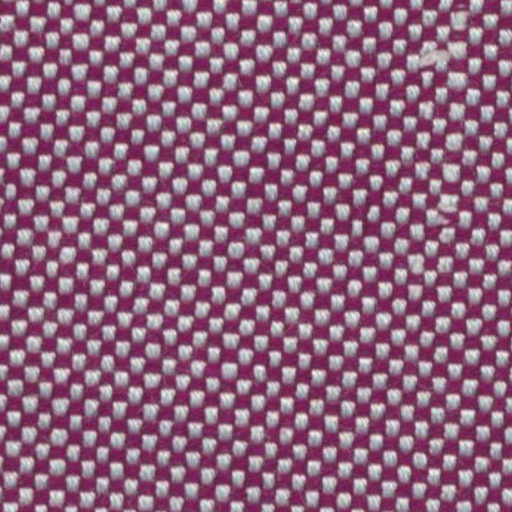TuoSha: (439, 6, 478, 242)
